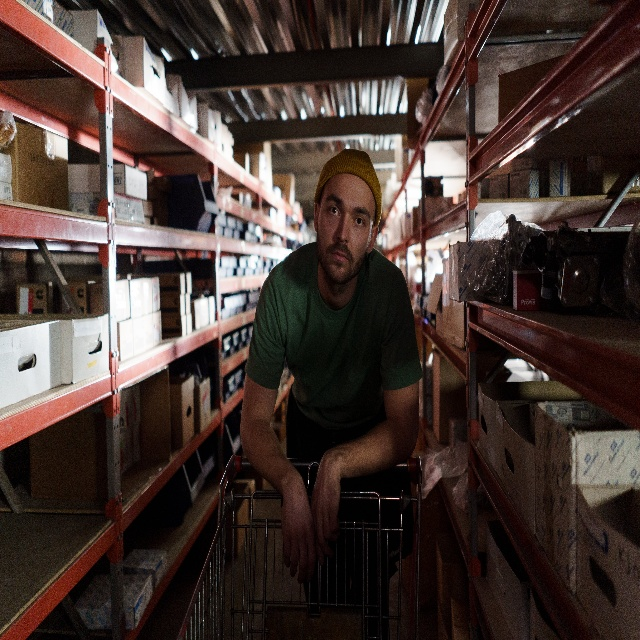Sin_guantes: (309, 455, 349, 570), (279, 474, 319, 586)
